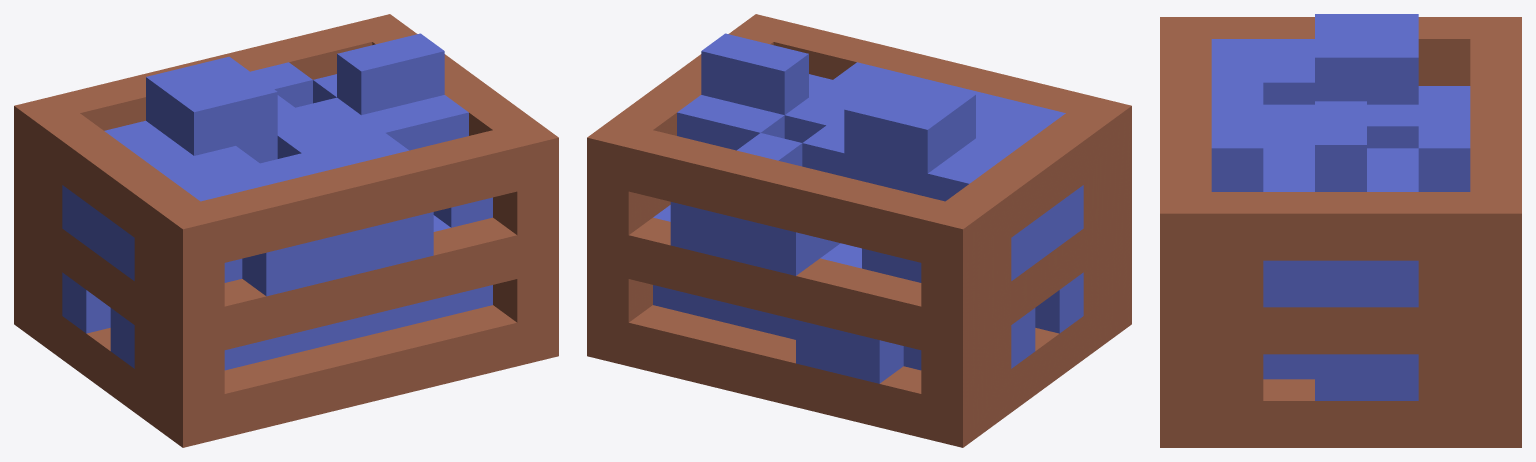
Rendered from box_blue.obj.
3 views of the same model, side by side, from view 1: azimuth 30°, elevation 25°; view 2: azimuth 150°, elevation 25°; view 3: azimuth 270°, elevation 25° (orthographic). The views are drawn at different scales.
Size of the model in its own units: 0.9 by 0.6 by 0.7.
1 material, 1 textured.
